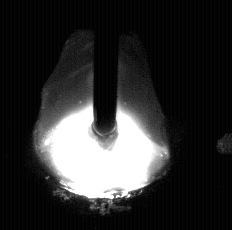arame: (94, 0, 118, 150)
poca: (33, 0, 168, 230)
